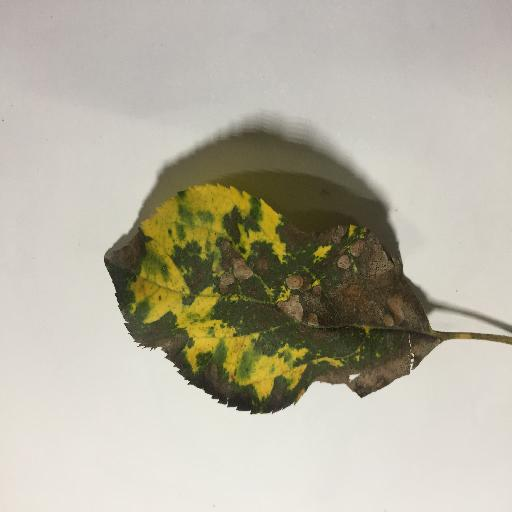Brown_Spot: (93, 178, 429, 420)
